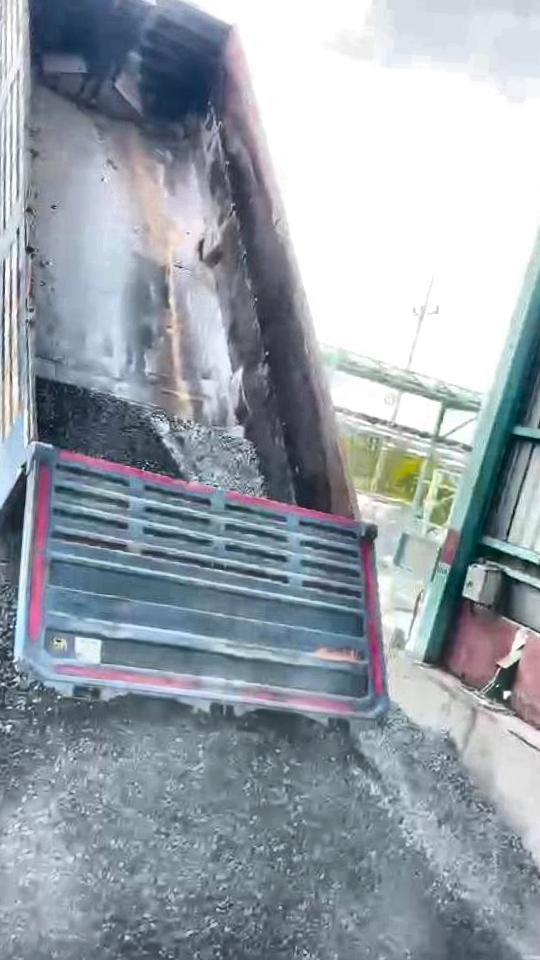gravel: (0, 557, 540, 960), (39, 381, 264, 488)
